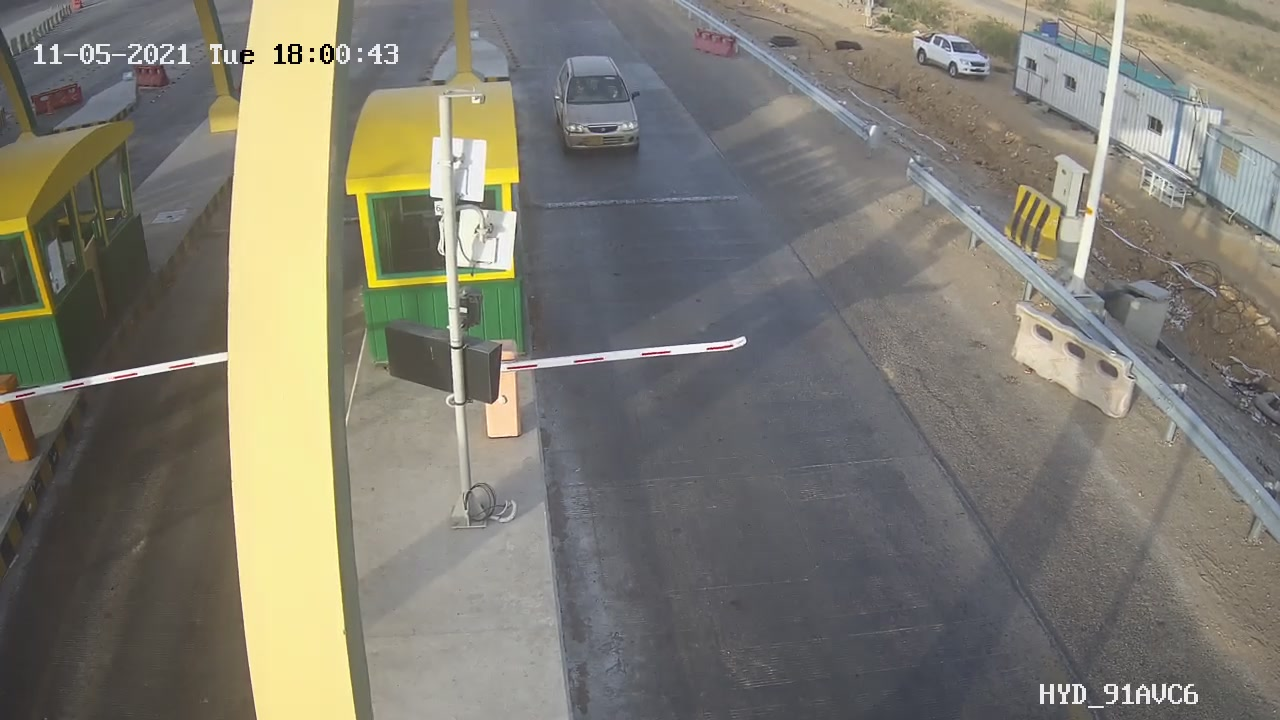F1: (546, 48, 648, 163)
